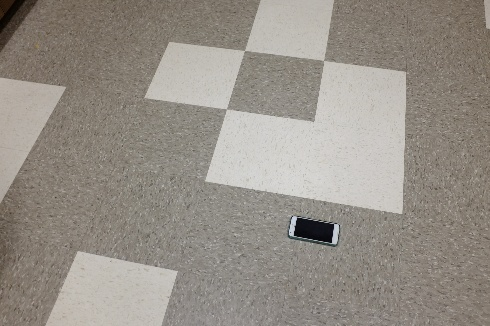phone: (289, 214, 338, 246)
